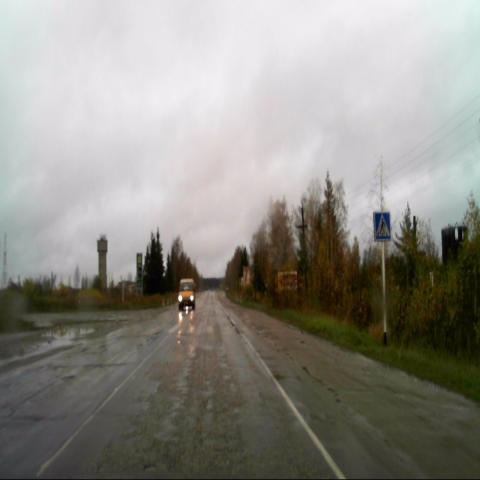5_19_1: (374, 211, 390, 241)
